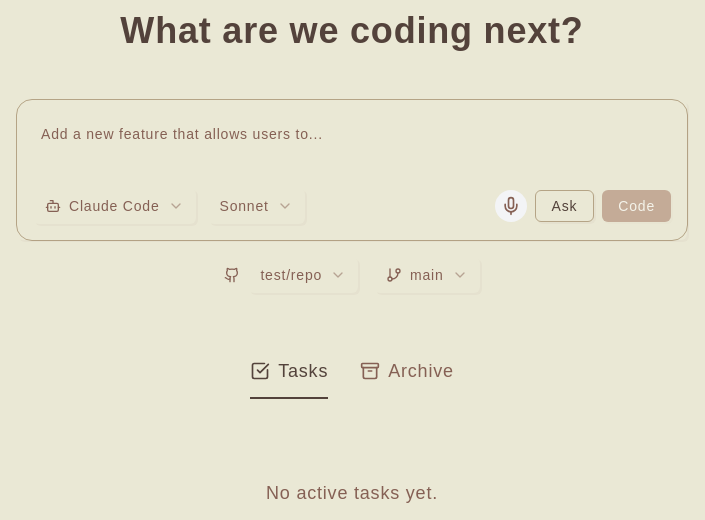
ChatInterface › should enable code generation button when input has content
Step 1. Type "Create a new component" into the text box with test id "task-input" → (352,170), box [17,100,687,240]
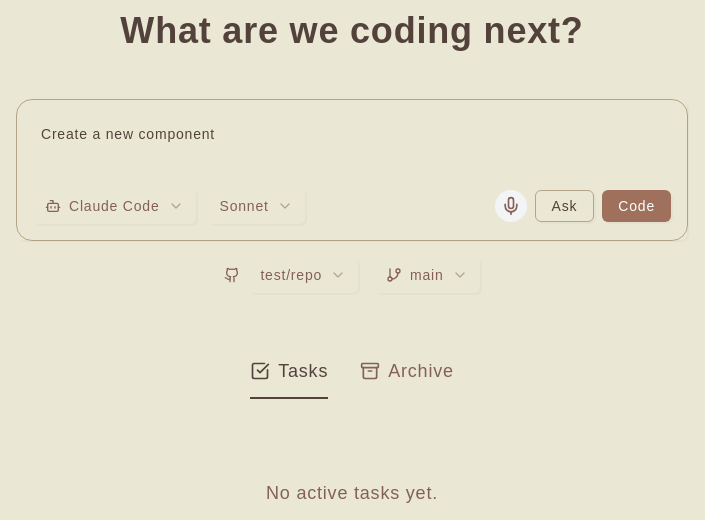
Check: the button with test id "code-generation-button" is enabled, box [602,190,671,222]
